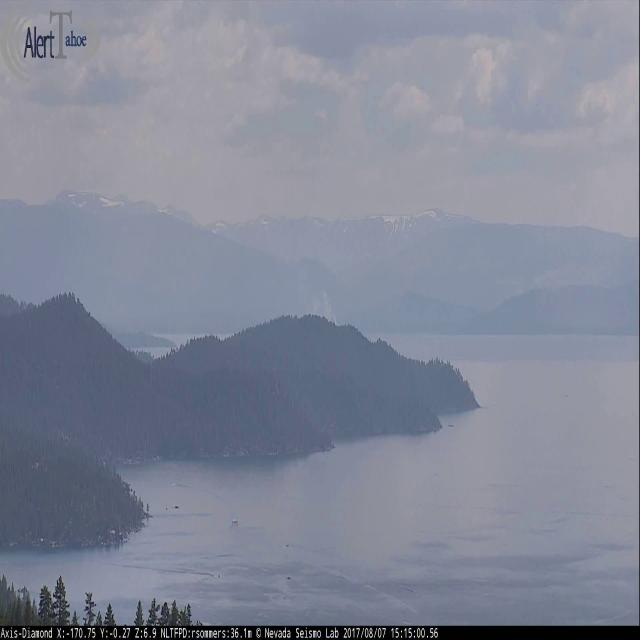smoke: (303, 285, 338, 329)
